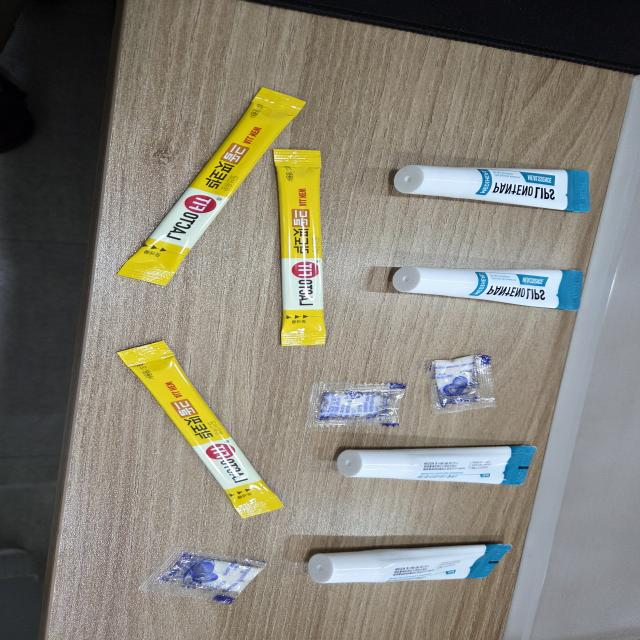lacto: (116, 82, 314, 294), (117, 326, 288, 537), (271, 142, 331, 352)
lib: (387, 257, 591, 318), (384, 164, 603, 213), (304, 539, 514, 586), (328, 445, 544, 488)
salt: (133, 546, 268, 608), (297, 381, 408, 434), (426, 350, 497, 415)
